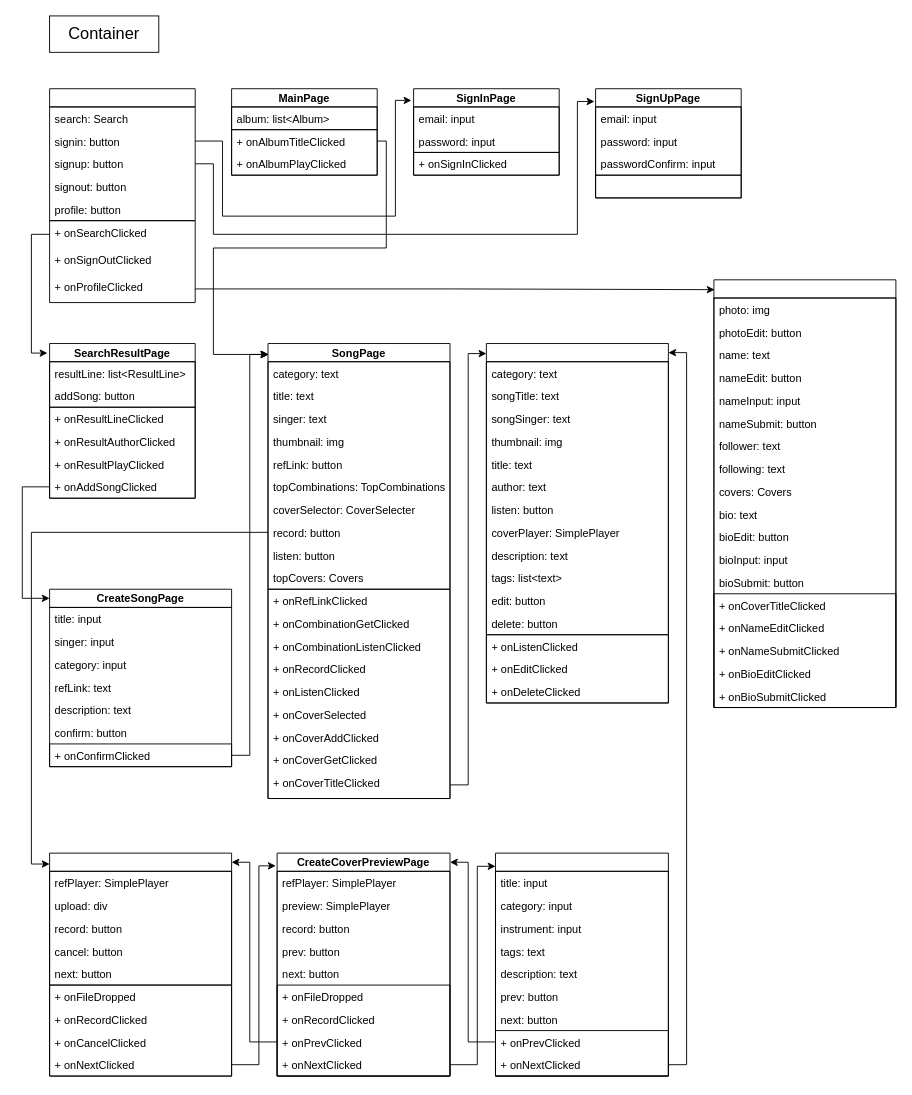
The diagram is 912 pixels wide and 1095 high, and some of its shapes have lost their labels. The shapes that lost their labels are listed below. From the top down, each one's box as (x1, y1, x2, y2) in pixels, then its label:
(49, 88, 195, 107): Header
(595, 174, 741, 198): + onSignUpClicked
(713, 279, 896, 708): ProfilePage
(485, 343, 668, 703): CoverPage
(49, 852, 232, 1076): CreateCoverRecordPage
(495, 852, 668, 1076): CreateCoverInfoPage
